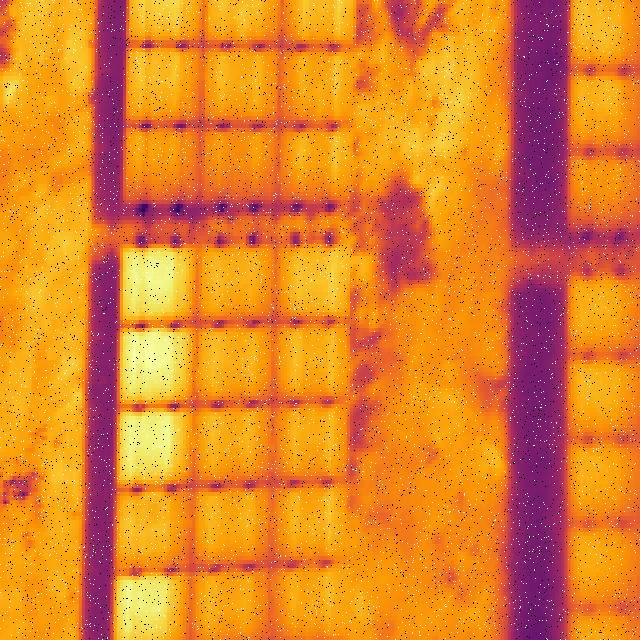Hotspot: (120, 332, 183, 404), (120, 412, 180, 480), (124, 252, 180, 320), (120, 580, 174, 640)
